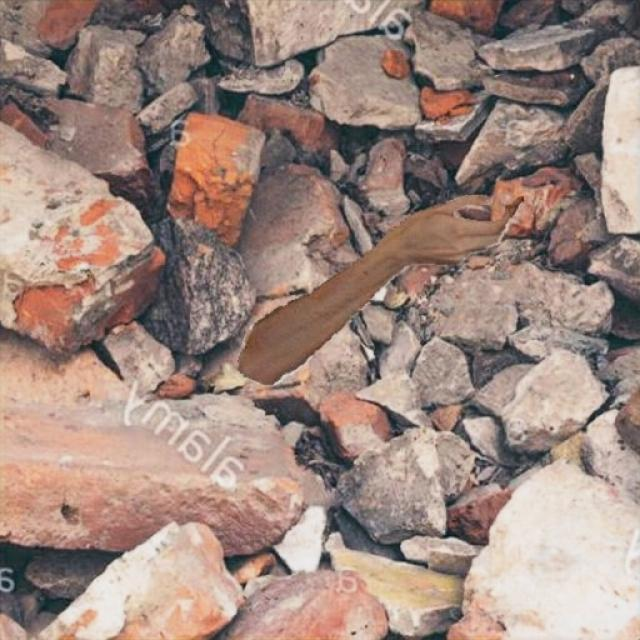Person in Rubble: (238, 195, 522, 384)
